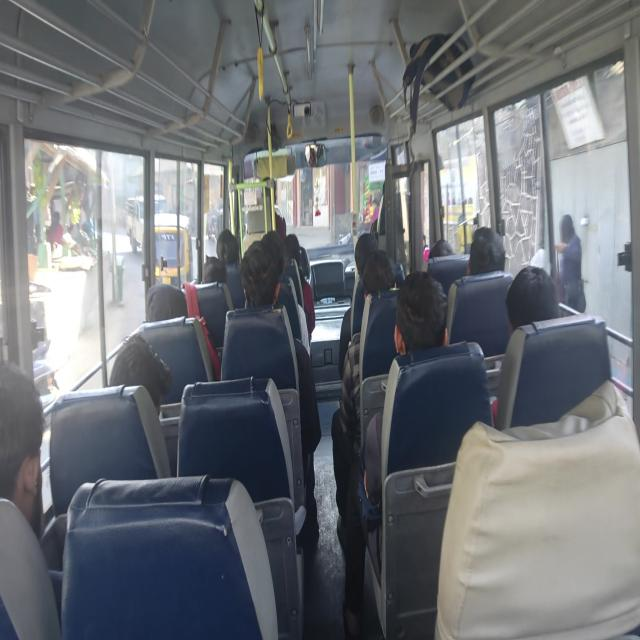person: (0, 353, 49, 542), (104, 333, 182, 415), (392, 271, 449, 369), (504, 266, 565, 348), (238, 243, 284, 307), (144, 282, 206, 324), (469, 221, 509, 280), (364, 250, 399, 302), (250, 171, 288, 212), (204, 249, 232, 299), (376, 174, 404, 211), (216, 230, 242, 268), (430, 233, 455, 271), (262, 227, 286, 265), (352, 227, 376, 263), (282, 232, 304, 264)
